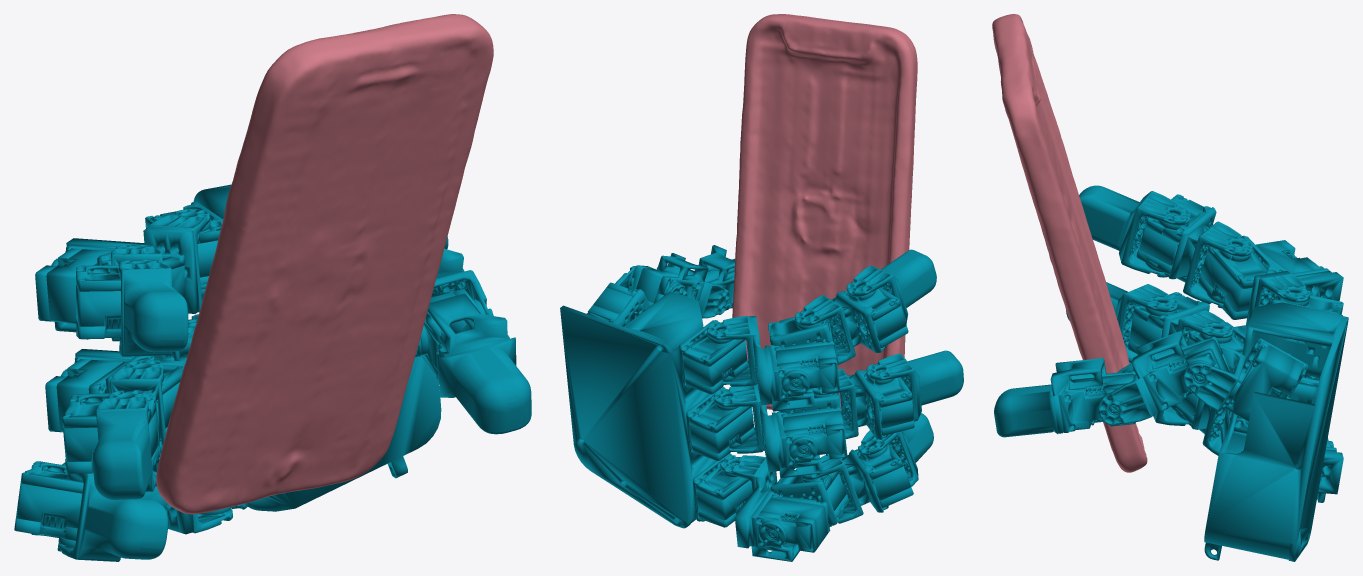
3 renders of one model, left to right at view 1: azimuth 30°, elevation 25°; view 2: azimuth 150°, elevation 25°; view 3: azimuth 270°, elevation 25°, orthographic. The views are drawn at different scales.
Parts seen in each view (by area): view 1: world; view 2: world; view 3: world.
Part boxes in pixels (x1,y1,x2,y2): world: (14, 14, 531, 561); world: (560, 14, 963, 561); world: (992, 14, 1348, 561).
Size of the model in its own units: 0.1989 by 0.267 by 0.1771.
